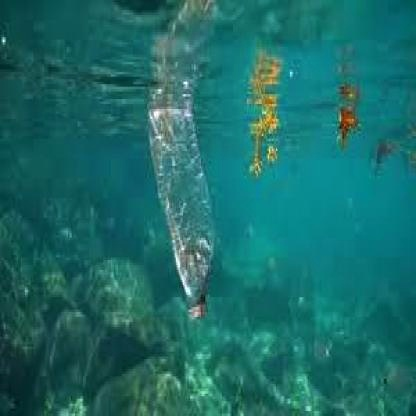pbottle: (138, 87, 214, 322)
